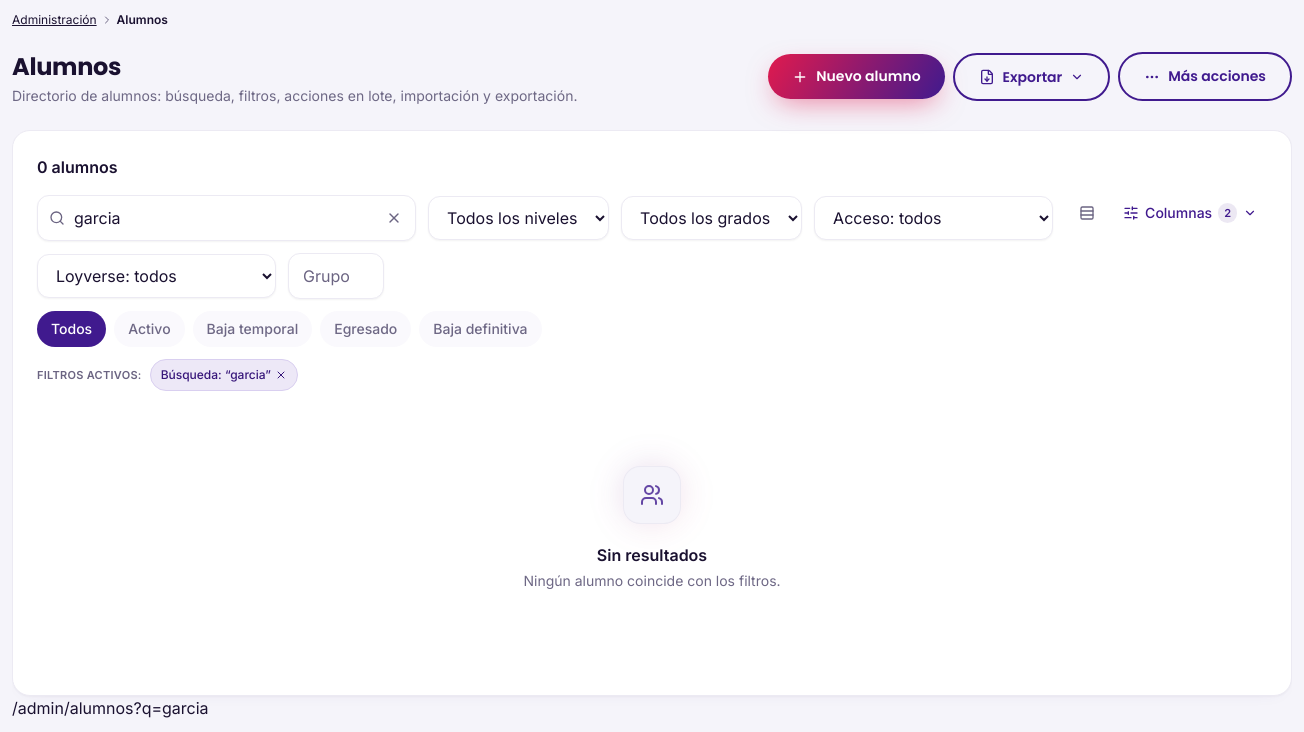
Test: AdminStudents URL-synced filters › clearing the chip removes the filter from the URL
Step 1. Click the button with aria-label "Quitar filtro: Búsqueda" → x=224, y=375, box [150, 359, 298, 391]
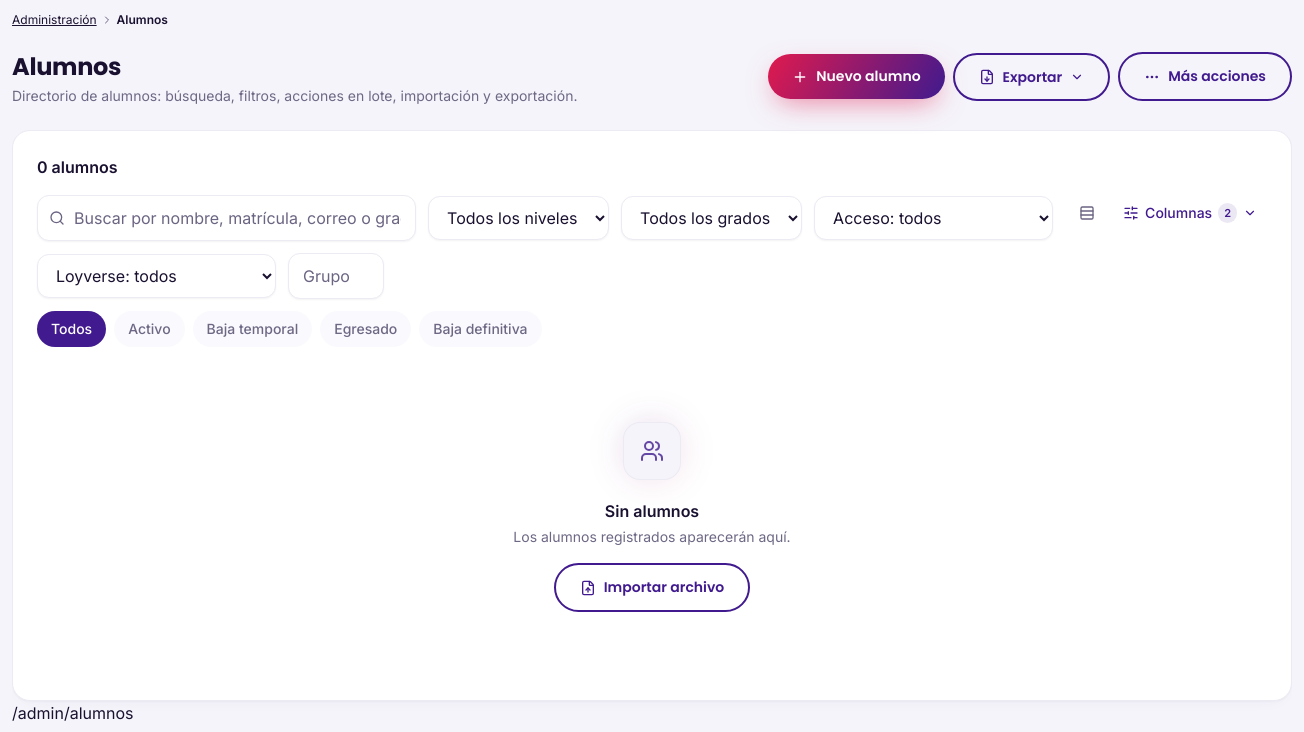
Expected: the text with test id "location" reads "/admin/alumnos", [12, 703, 134, 723]
Expected: the field named "Buscar alumnos" is empty, [37, 195, 416, 241]
